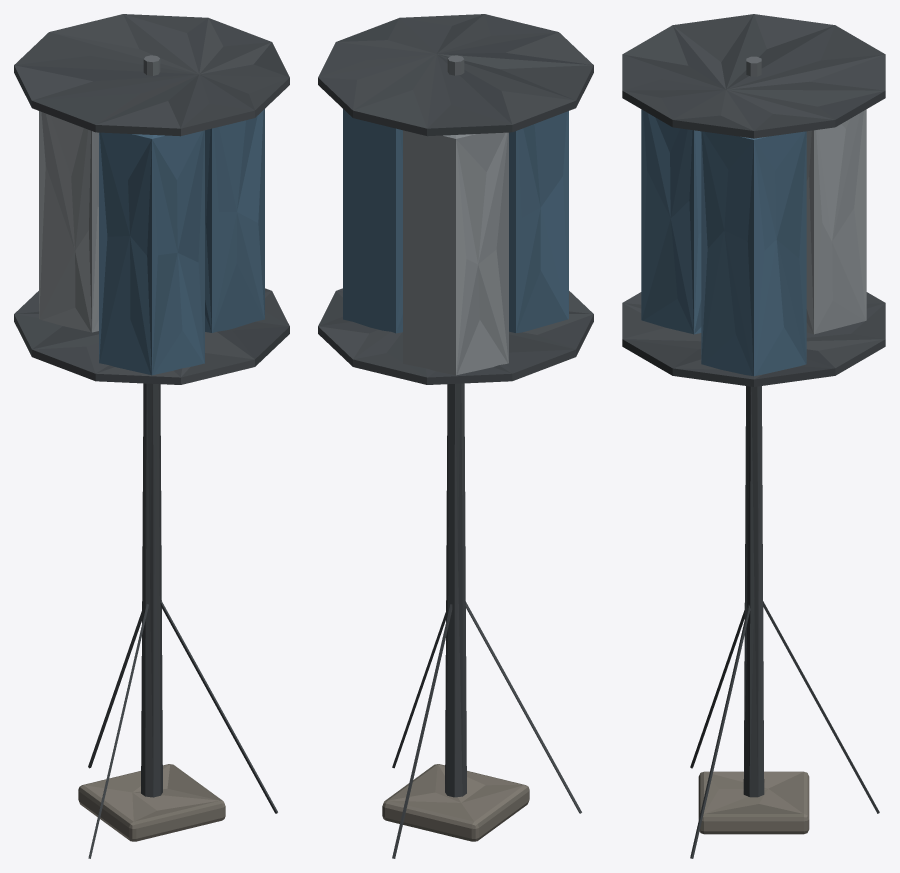
File: wind_turbine_vertikalnyy_idle.glb
3 renders of one model, left to right at view 1: azimuth 30°, elevation 25°; view 2: azimuth 150°, elevation 25°; view 3: azimuth 270°, elevation 25°, orthographic.
Parts seen in each view (by area): view 1: wind_turbine_vertikalnyy_idle; view 2: wind_turbine_vertikalnyy_idle; view 3: wind_turbine_vertikalnyy_idle.
Boxes of the visible parts, x1,y1,x2,y2 form: wind_turbine_vertikalnyy_idle: (14, 14, 289, 858); wind_turbine_vertikalnyy_idle: (318, 14, 593, 858); wind_turbine_vertikalnyy_idle: (622, 14, 885, 858).
Size of the model in its own units: 1 by 3 by 0.9511.
1 material, 1 textured.
